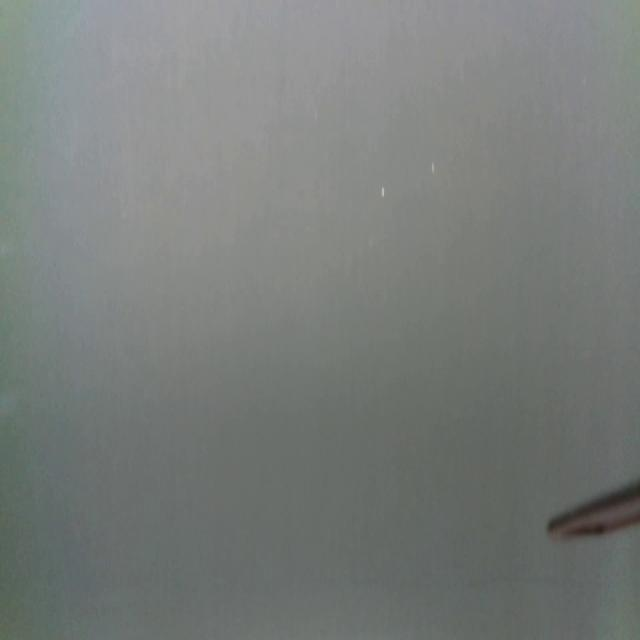hole: (430, 156, 437, 178), (380, 182, 387, 200)
